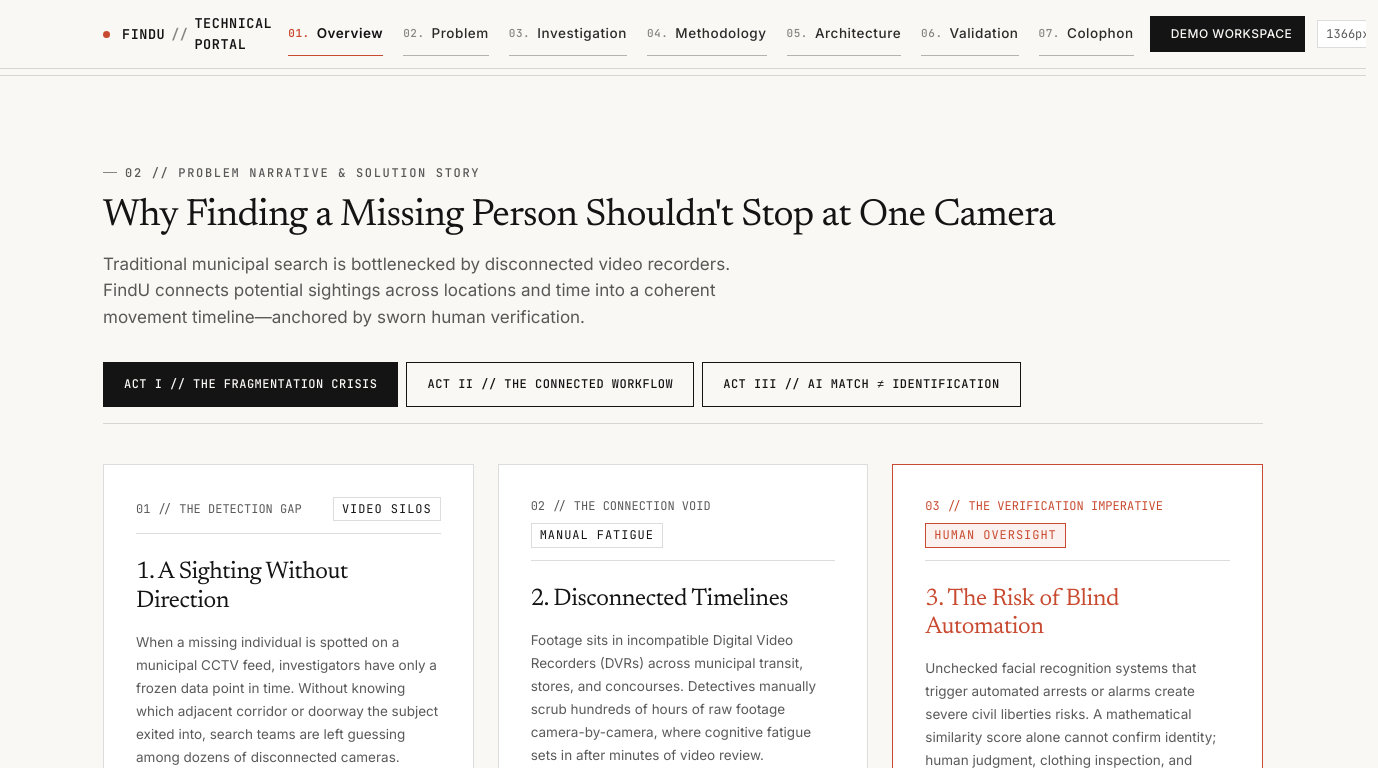
Test: Phase P4: Problem Narrative & Solution Story Verification › switches to Act II (The Connected Workflow) and allows navigating workflow stages
The width and height of the screenshot is (1378, 768).
(page scrolled)
What coordinates should you click on to do the following:
click the button "Act II // The Connected Workflow"
I would click on:
 (550, 384)
Its box is [406, 362, 694, 407].
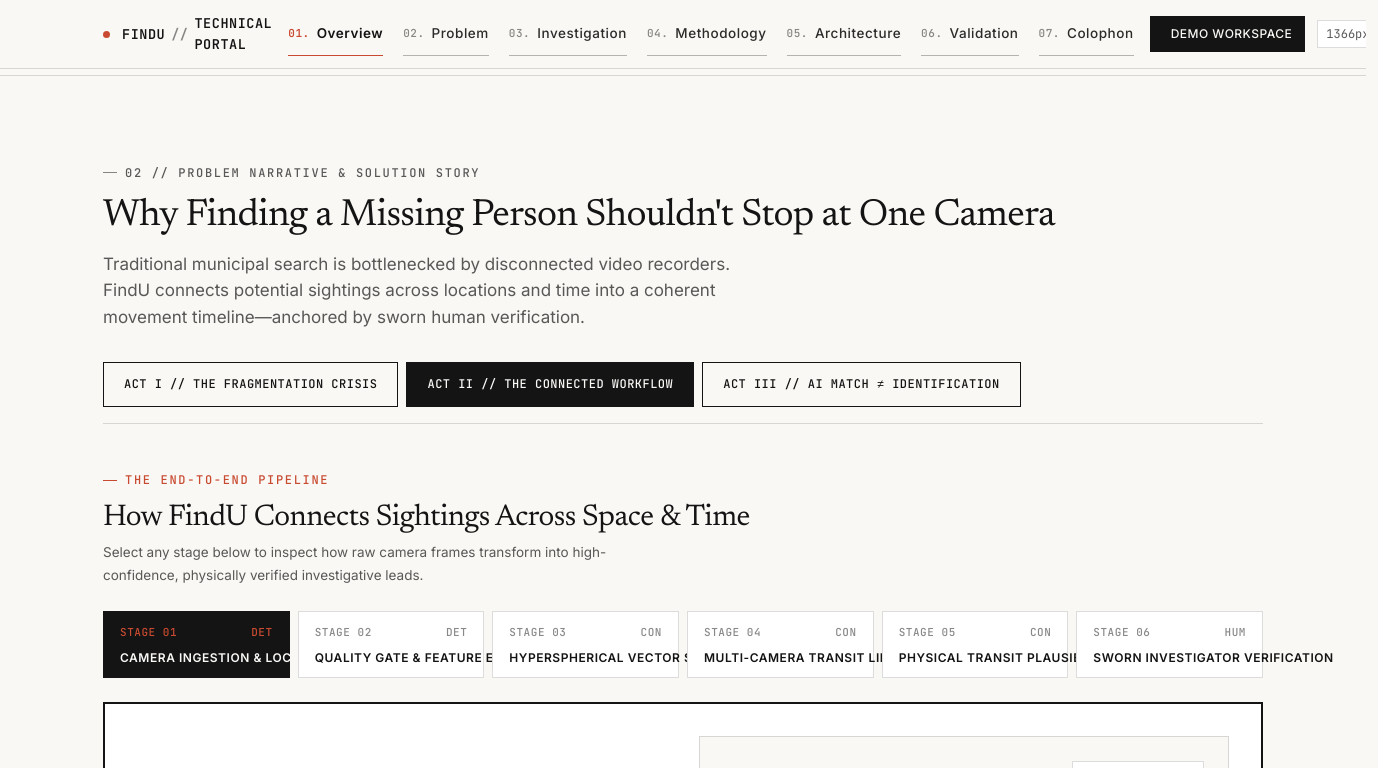
Result: the heading "How FindU Connects Sightings Across Space & Time" is shown at [103, 503, 750, 533]
Click on Stage 03 button
What coordinates should you click on to do the following:
click the button "STAGE 03 Con Hyperspherical Vector Similarity"
I would click on:
 (586, 644)
Its box is [492, 611, 679, 678].
(page scrolled)
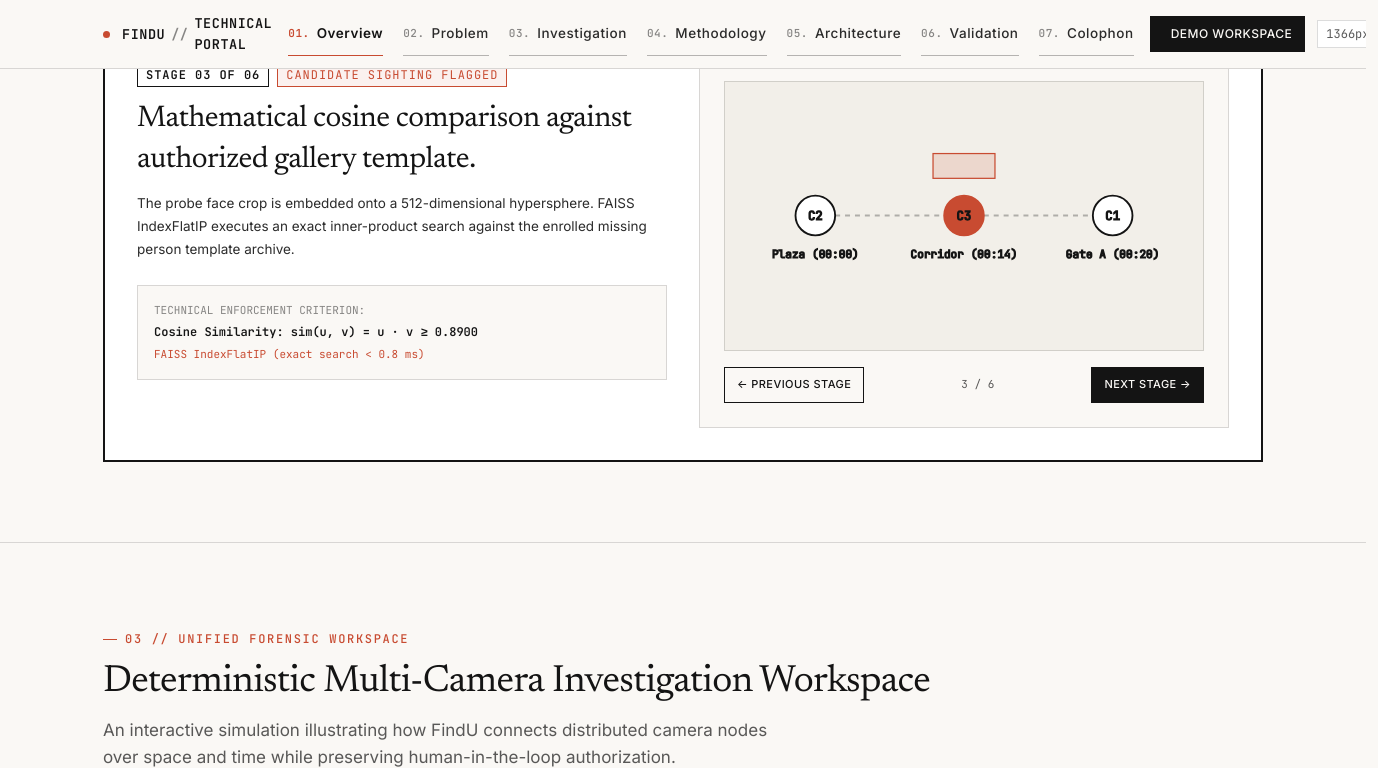
Result: the text "CANDIDATE SIGHTING FLAGGED" is shown at [277, 63, 508, 87]
Result: the text "Cosine Similarity: sim(u, v) = u · v ≥ 0.8900" is shown at [154, 324, 478, 340]
Click Next Stage button
What coordinates should you click on to do the following:
click the button "Next Stage →"
I would click on:
 (1148, 385)
Its box is [1091, 367, 1204, 403].
(page scrolled)
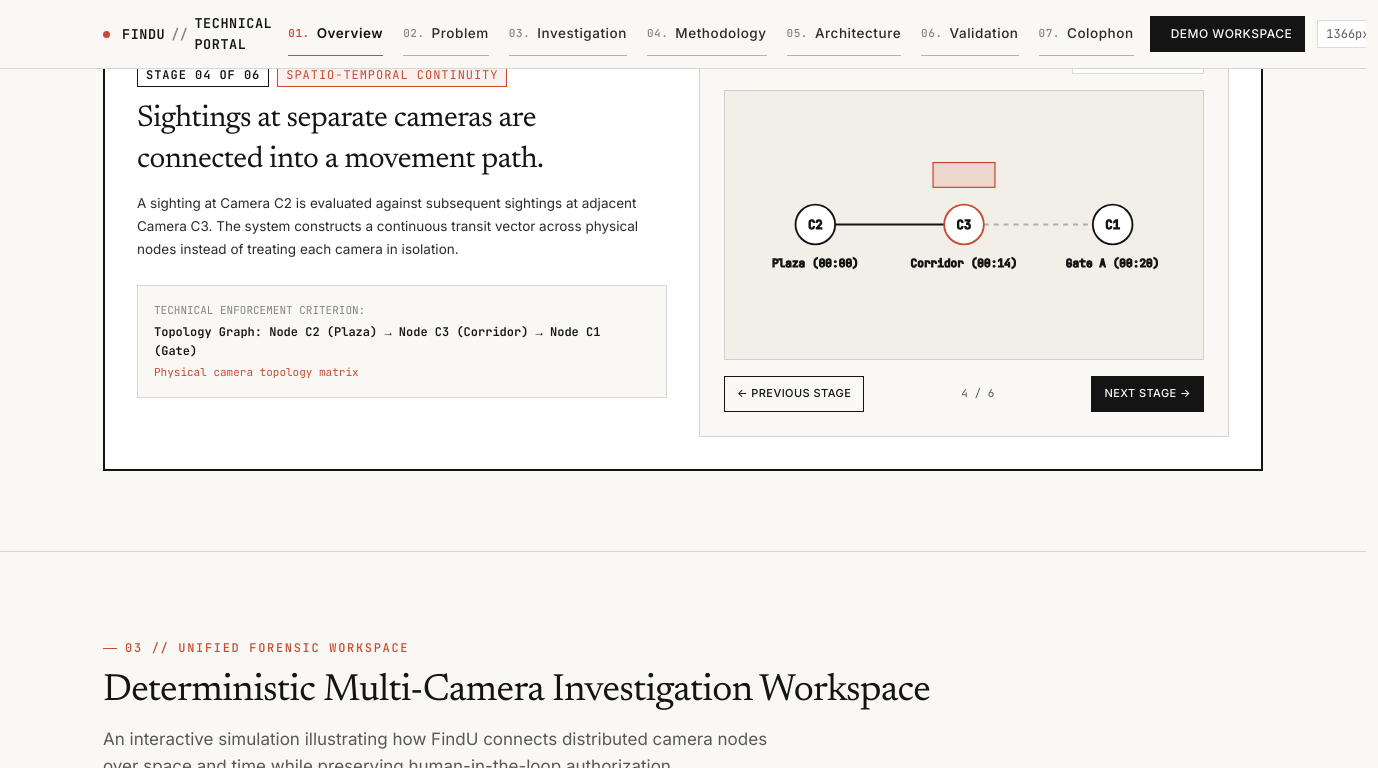
Result: the text "SPATIO-TEMPORAL CONTINUITY" is shown at [277, 62, 508, 87]
